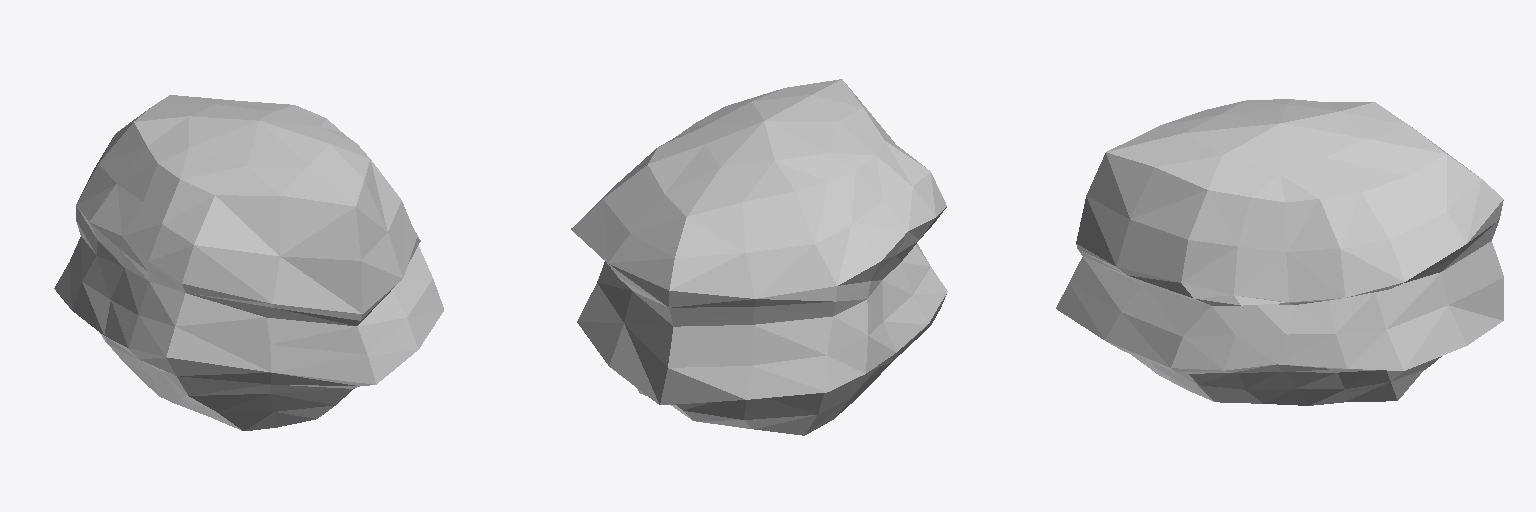
The model's file is bush_3.obj.
3 views of the same model, side by side, from view 1: azimuth 30°, elevation 25°; view 2: azimuth 150°, elevation 25°; view 3: azimuth 270°, elevation 25° (orthographic).
Parts seen in each view (by area): view 1: bush_3; view 2: bush_3; view 3: bush_3.
Part boxes in pixels (bbox=[...]): bush_3: bbox=[54, 95, 443, 430]; bush_3: bbox=[571, 79, 947, 435]; bush_3: bbox=[1056, 99, 1503, 405].
Size of the model in its own units: 0.9995 by 0.8906 by 1.35.